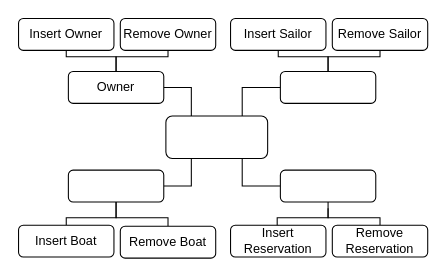
Image size: 446x277. Some labels were removed from this diagram. Each missing label, with the box of its shape:
Boat: (67, 169, 164, 202)
Home Page: (165, 115, 268, 158)
Reservation: (279, 169, 376, 202)
Sailor: (279, 70, 376, 103)
